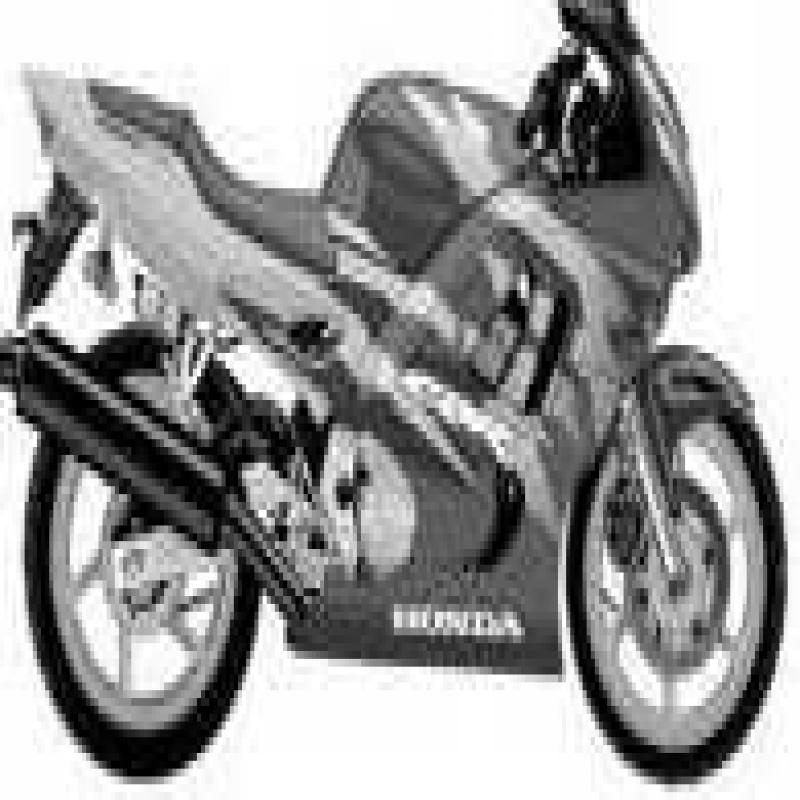bike: (7, 8, 800, 799)
